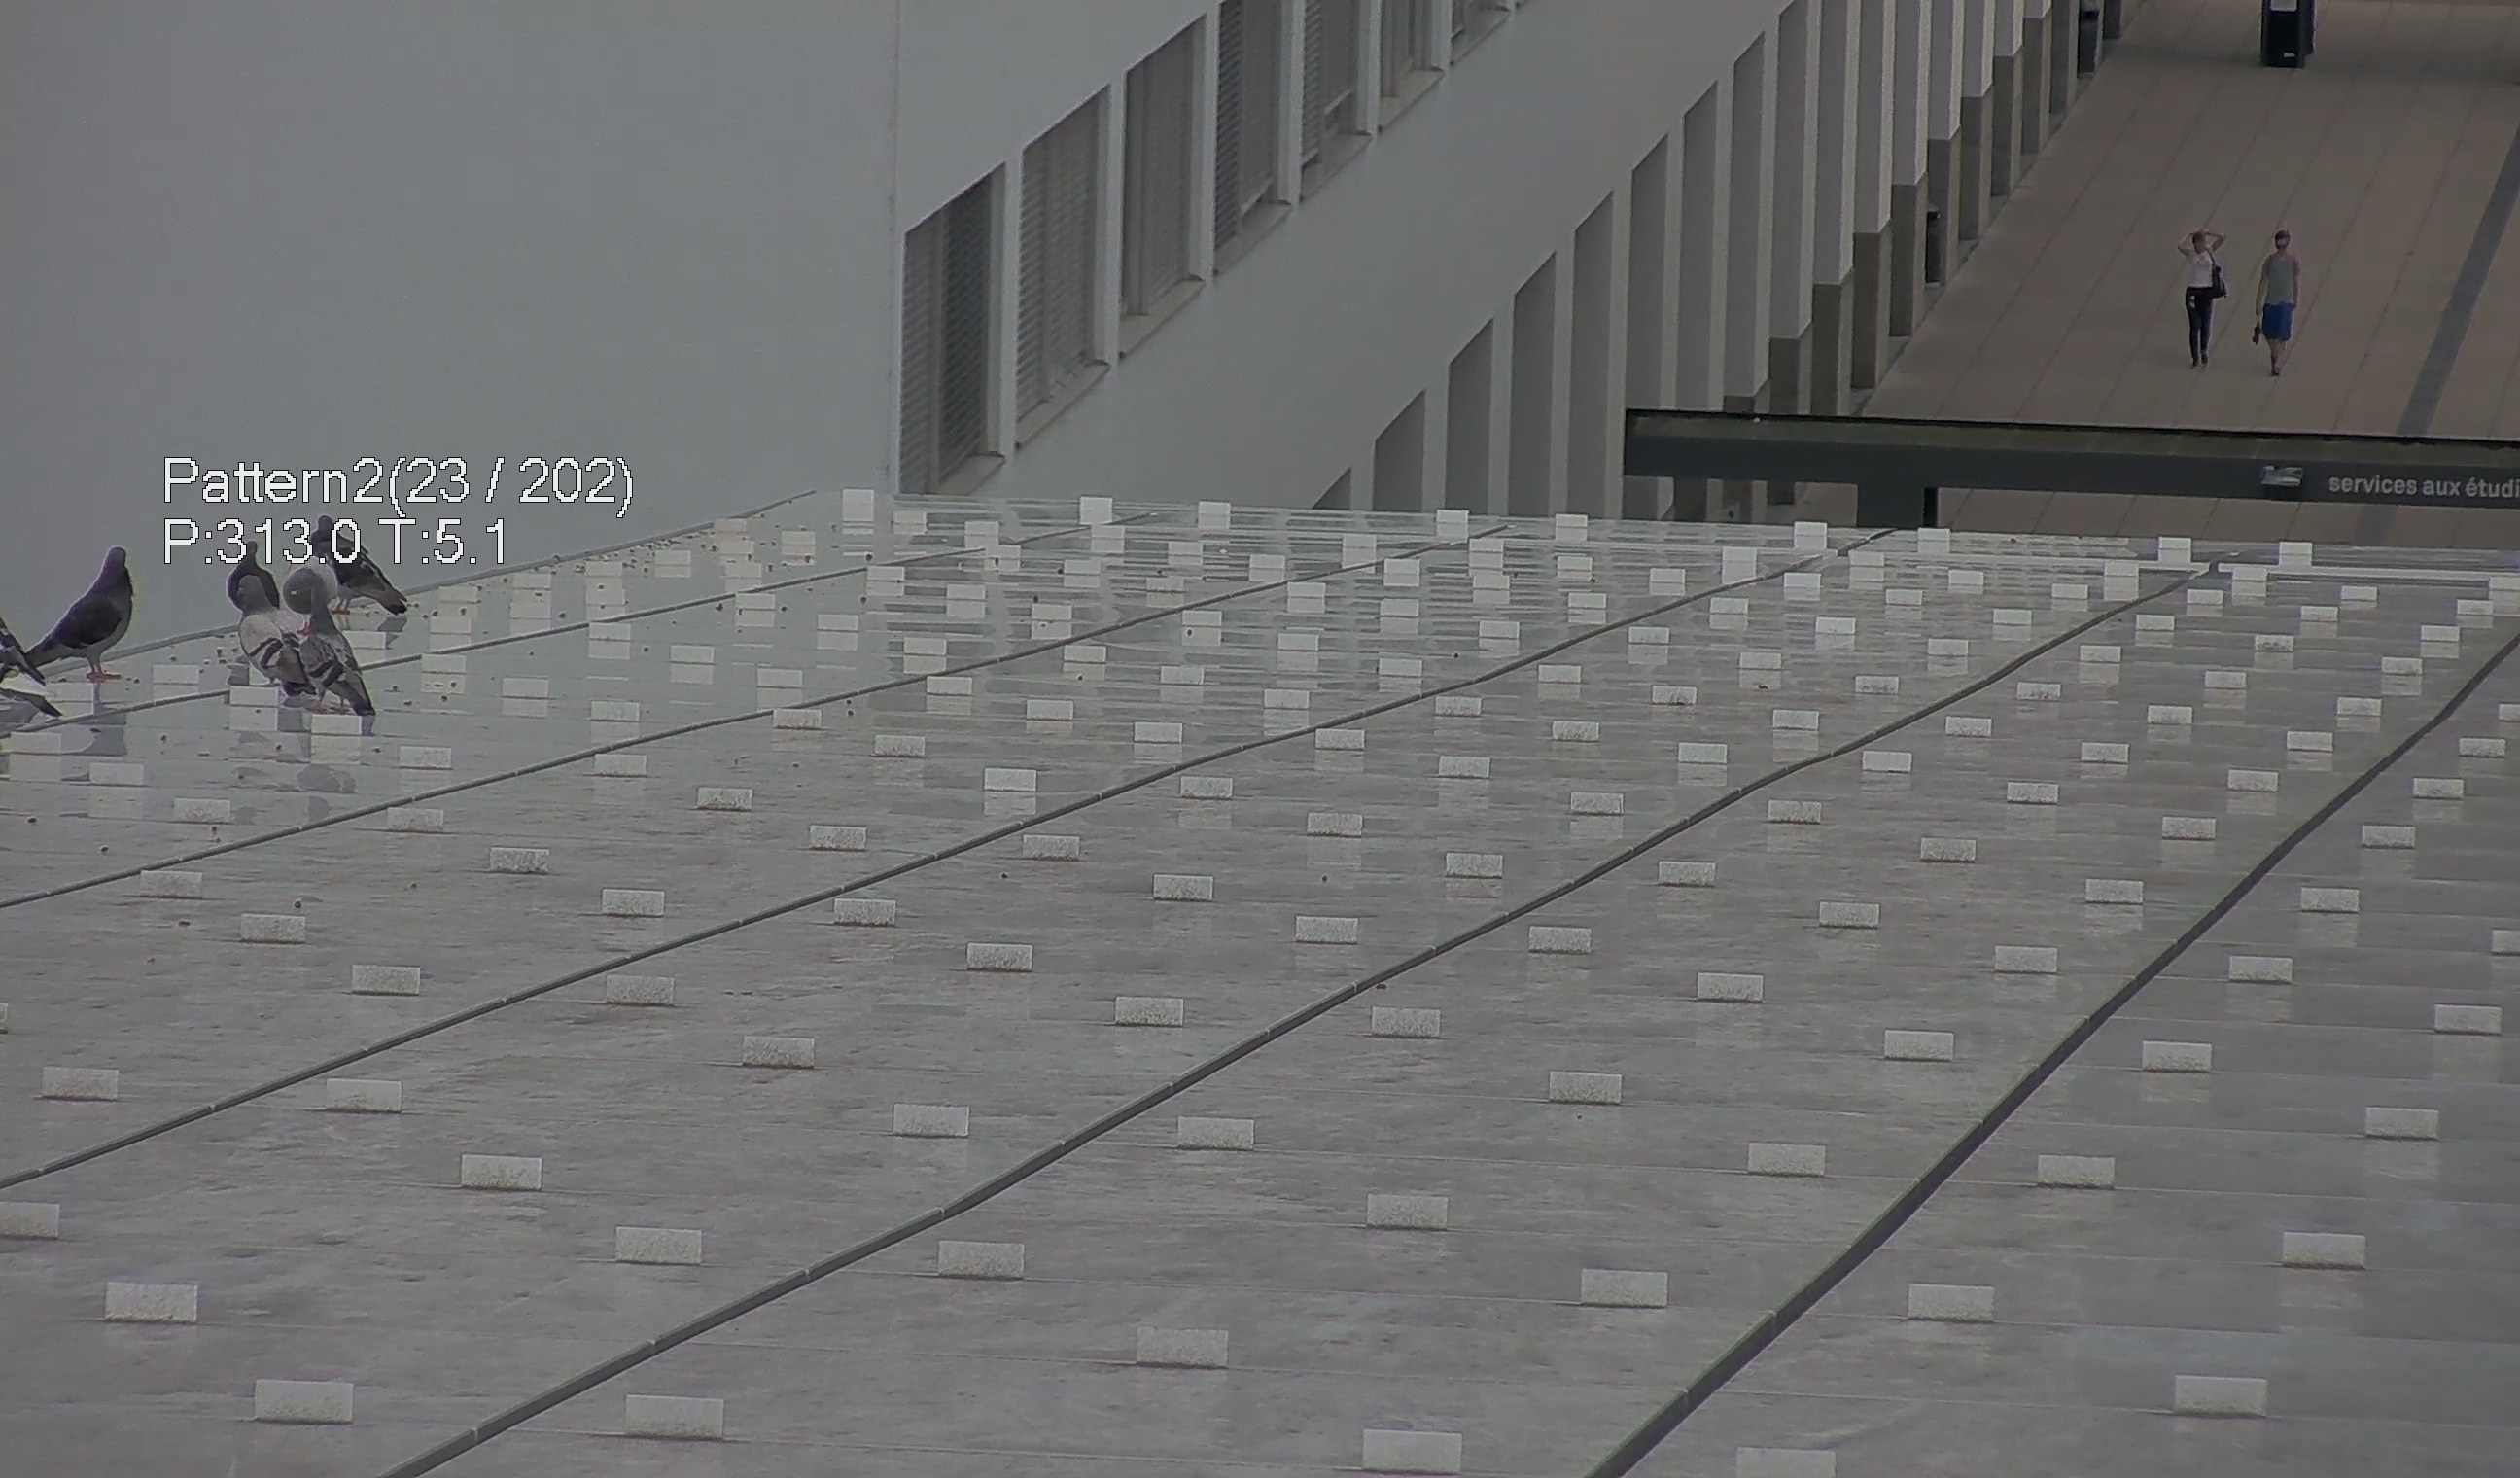Pigeon: (12, 531, 146, 693), (225, 570, 317, 707), (304, 575, 378, 734)
